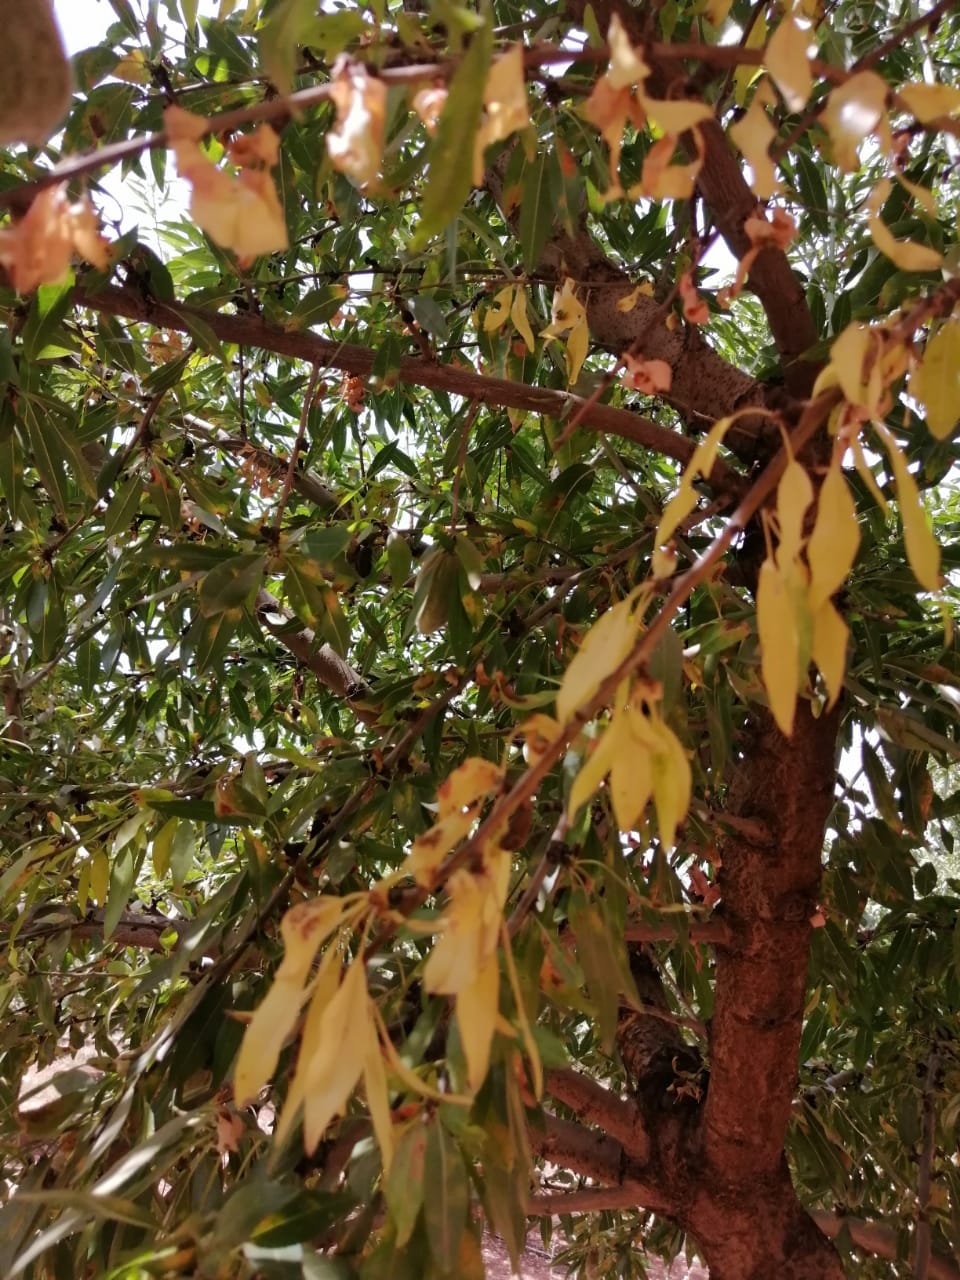chancre fusicocum: (238, 299, 945, 1123), (3, 17, 813, 263)
